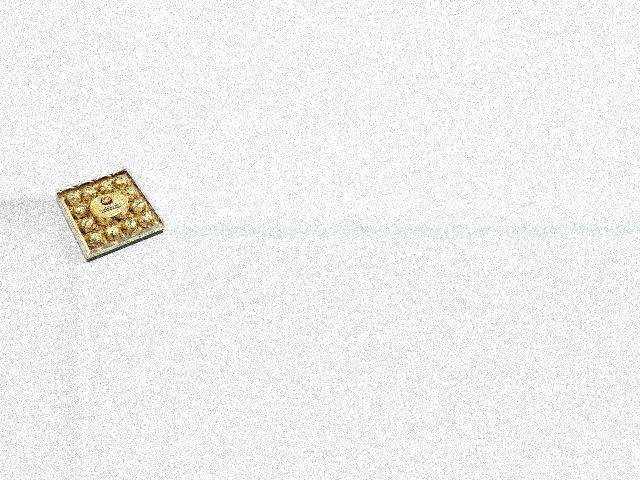chocolate: (54, 166, 166, 264)
